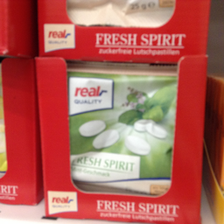candy: (68, 63, 175, 199)
